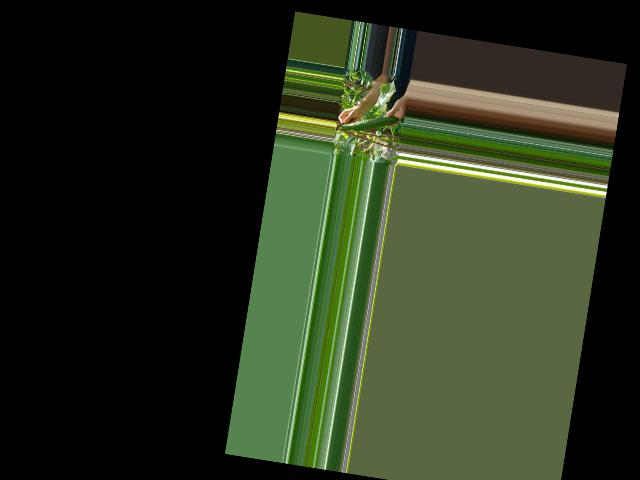cucumber: (342, 108, 399, 137)
